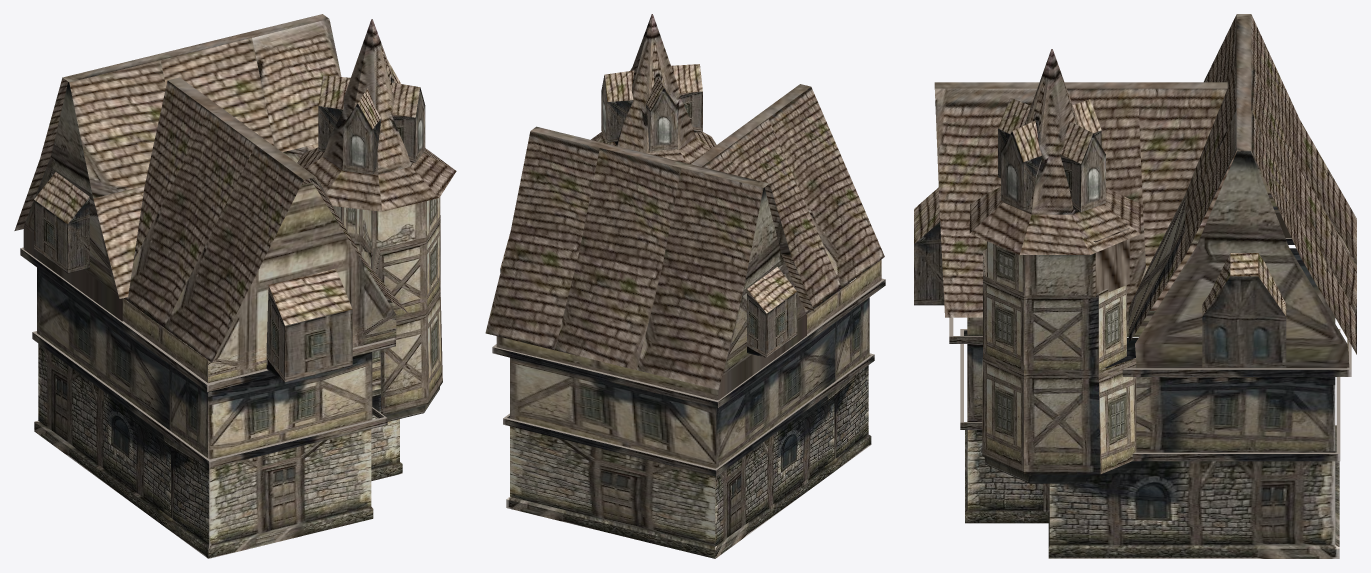
The picture shows the model from 3 angles, left to right: view 1: azimuth 30°, elevation 25°; view 2: azimuth 150°, elevation 25°; view 3: azimuth 270°, elevation 25°; orthographic projection. The views are drawn at different scales.
Visible parts, largest first — view 1: manor; view 2: manor; view 3: manor.
Part boxes in pixels (x1=…): manor: x1=14, y1=14, x2=456, y2=558; manor: x1=485, y1=14, x2=885, y2=558; manor: x1=914, y1=14, x2=1356, y2=558.
Bounding box in the file's own units: 2.48 × 3.6 × 2.92.
1 material, 1 textured.
